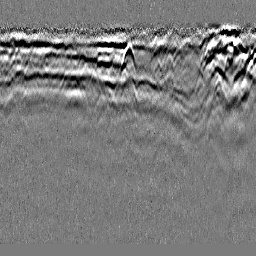cavity: (121, 43, 137, 73)
